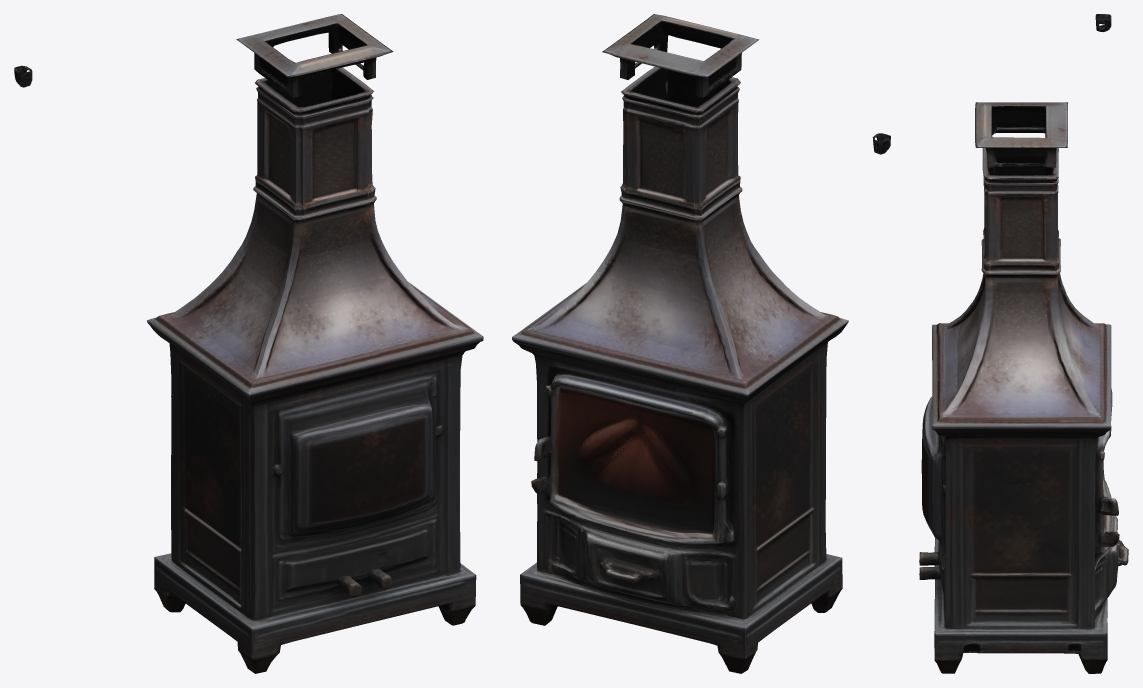
The model's file is fireplace_largestanding.glb.
3 views of the same model, side by side, from view 1: azimuth 30°, elevation 25°; view 2: azimuth 150°, elevation 25°; view 3: azimuth 270°, elevation 25° (orthographic). The views are drawn at different scales.
Parts seen in each view (by area): view 1: world; view 2: world; view 3: world.
Part boxes in pixels (bbox=[...]): world: bbox=[14, 14, 483, 673]; world: bbox=[512, 14, 890, 673]; world: bbox=[919, 14, 1128, 673].
Bounding box in the file's own units: 0.6717 × 0.9948 × 0.3712.
Materials: 1 (1 with a texture image).
